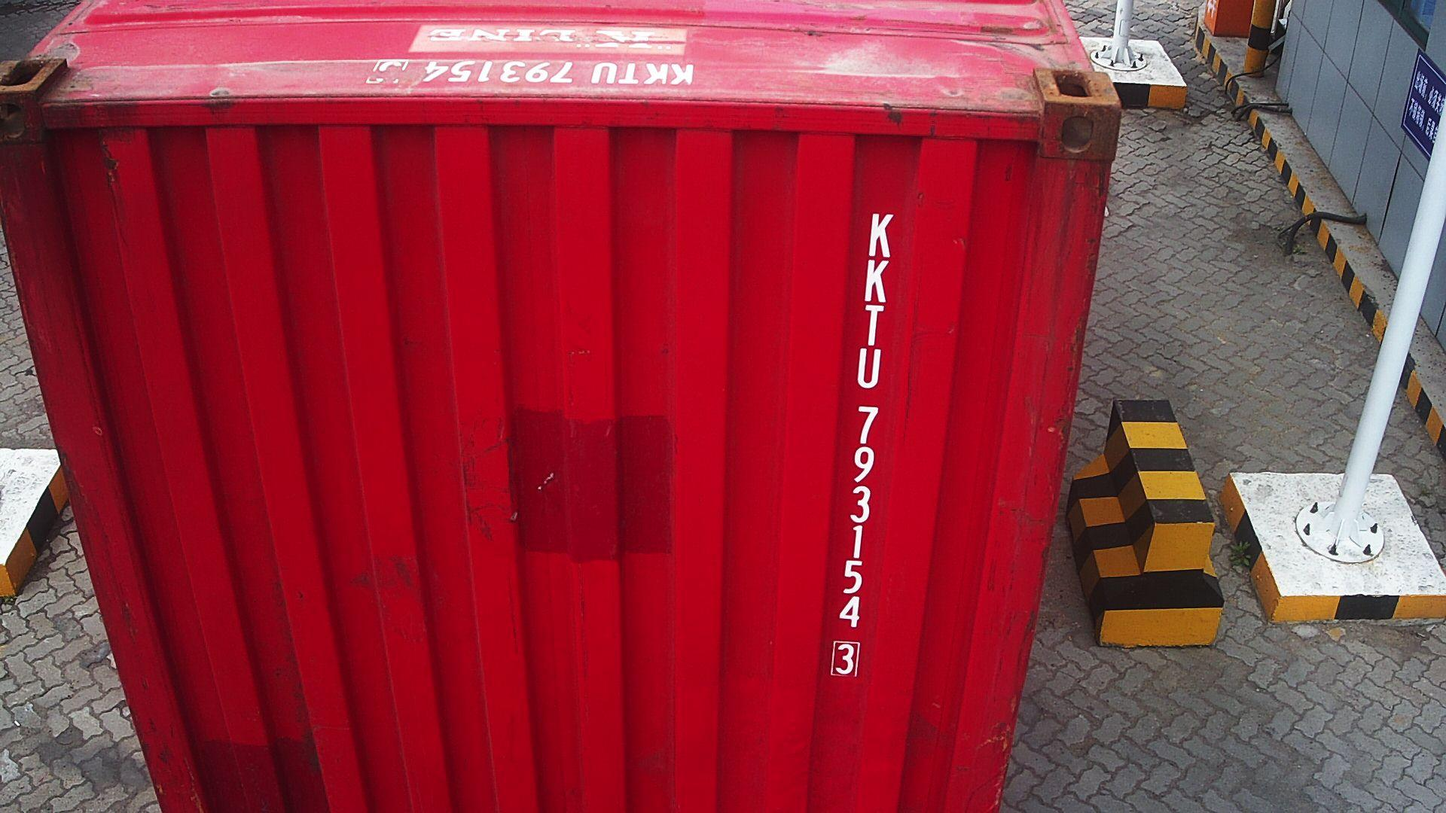container-numbers: (827, 208, 895, 683), (363, 57, 700, 89)
